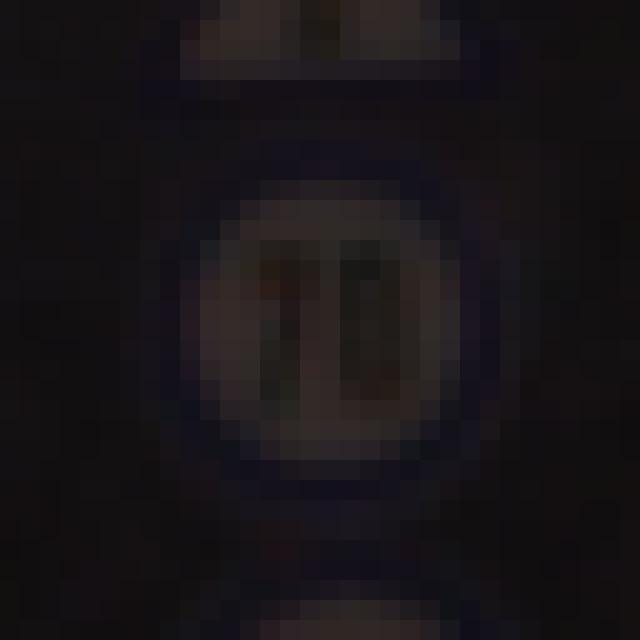SPEED LIMIT 70: (200, 176, 530, 570)
